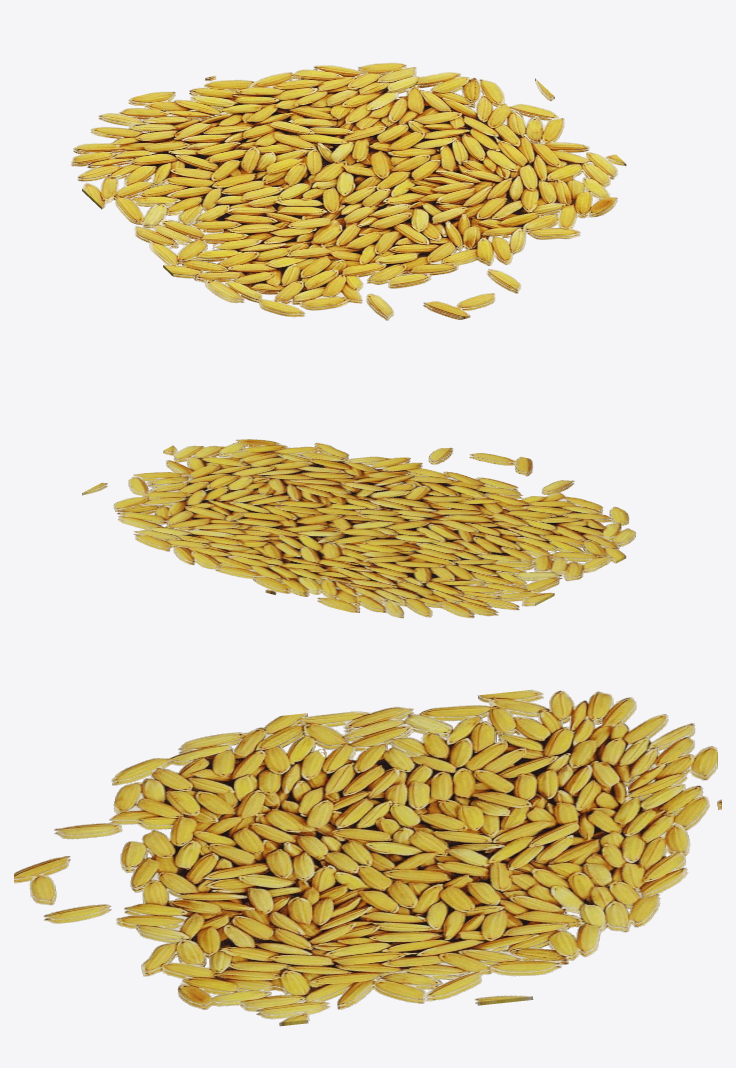
The model's file is rice seeds.fbx.
The picture shows the model from 3 angles, top to bottom: view 1: azimuth 30°, elevation 25°; view 2: azimuth 150°, elevation 25°; view 3: azimuth 270°, elevation 25°; orthographic projection. The views are drawn at different scales.
Visible parts, largest first — view 1: raic_seeds; view 2: raic_seeds; view 3: raic_seeds.
Boxes of the visible parts, <box> form: raic_seeds: <box>70,62,626,320</box>; raic_seeds: <box>82,439,636,618</box>; raic_seeds: <box>14,689,721,1026</box>.
Bounding box in the file's own units: 51.72 × 6.07 × 50.45.
1 material, 1 textured.
